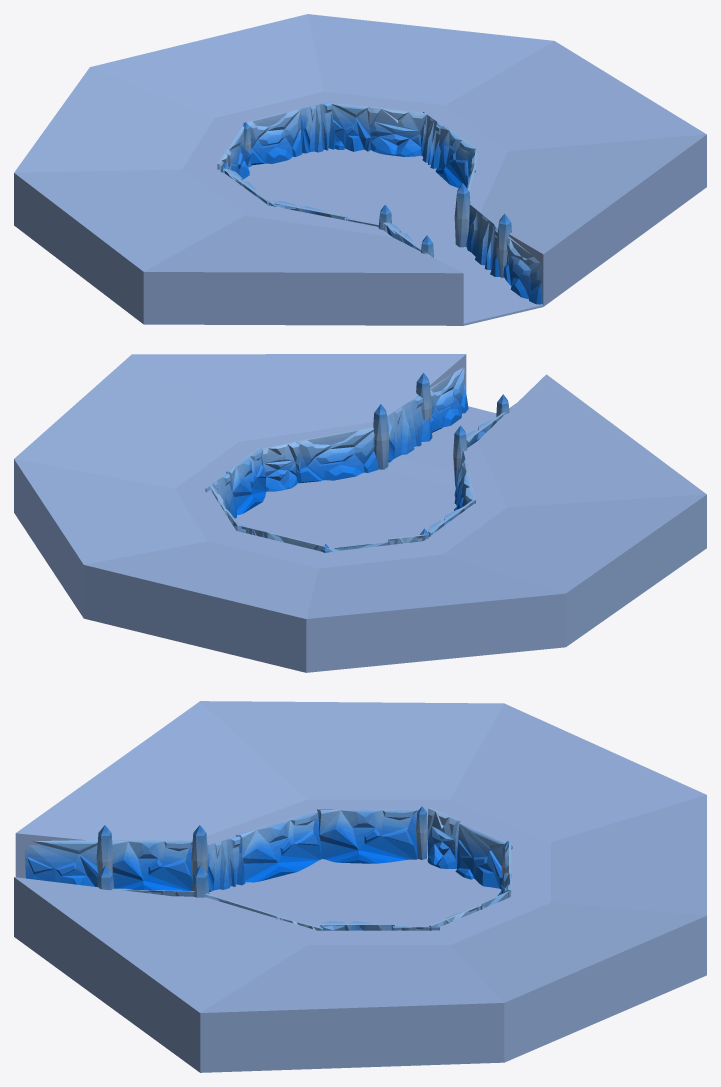
The model's file is BOSS_Room_N.fbx.
The picture shows the model from 3 angles, top to bottom: view 1: azimuth 30°, elevation 25°; view 2: azimuth 150°, elevation 25°; view 3: azimuth 270°, elevation 25°; orthographic projection. The views are drawn at different scales.
Parts seen in each view (by area): view 1: Cylinder.010, wall_04.006, wall_05.006, wall_05.007, wall_03.007, wall_01.002, wall_02.006, wall_02.007, wall_02.005, link.002, wall_01.003, link.014; view 2: Cylinder.010, wall_05.005, wall_02.007, wall_03.007, wall_05.007, wall_04.005, link.002, wall_02.005, wall_03.005, link.014; view 3: Cylinder.010, wall_03.006, wall_03.005, wall_03.008, wall_01.004, wall_01.003, wall_02.004, wall_04.009, link.001, link.013, wall_03.007, link.007.
Boxes of the visible parts, box(x1,y1,x2,y2) form: Cylinder.010: box(14, 14, 706, 325); wall_04.006: box(367, 106, 427, 156); wall_05.006: box(243, 109, 302, 165); wall_05.007: box(503, 237, 542, 304); wall_03.007: box(435, 124, 476, 187); wall_01.002: box(331, 103, 370, 151); wall_02.006: box(299, 101, 335, 153); wall_02.007: box(466, 204, 500, 276); wall_02.005: box(421, 111, 442, 168); link.002: box(454, 183, 470, 247); wall_01.003: box(228, 125, 251, 179); link.014: box(496, 213, 511, 277); Cylinder.010: box(14, 354, 706, 672); wall_05.005: box(296, 427, 378, 483); wall_02.007: box(387, 395, 432, 462); wall_03.007: box(226, 447, 266, 514); wall_05.007: box(430, 367, 468, 432); wall_04.005: box(262, 440, 300, 491); link.002: box(373, 404, 389, 469); wall_02.005: box(205, 473, 236, 518); wall_03.005: box(454, 462, 474, 510); link.014: box(416, 373, 431, 422); Cylinder.010: box(14, 701, 706, 1072); wall_03.006: box(317, 809, 417, 863); wall_03.005: box(236, 810, 321, 882); wall_03.008: box(112, 840, 192, 890); wall_01.004: box(24, 840, 98, 886); wall_01.003: box(455, 823, 505, 889); wall_02.004: box(207, 836, 245, 891); wall_04.009: box(427, 807, 460, 868); link.001: box(191, 825, 208, 878); link.013: box(96, 825, 113, 873); wall_03.007: box(320, 921, 394, 930); link.007: box(416, 806, 428, 859).
Size of the model in its own units: 17271 by 2240 by 16211.
Materials: 7 (6 with a texture image).
